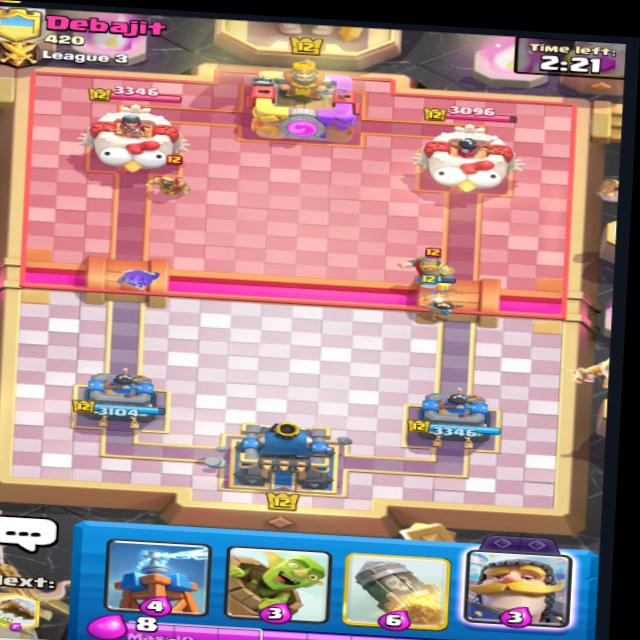Knight: (398, 233, 459, 298)
Wizard: (141, 156, 200, 211)
